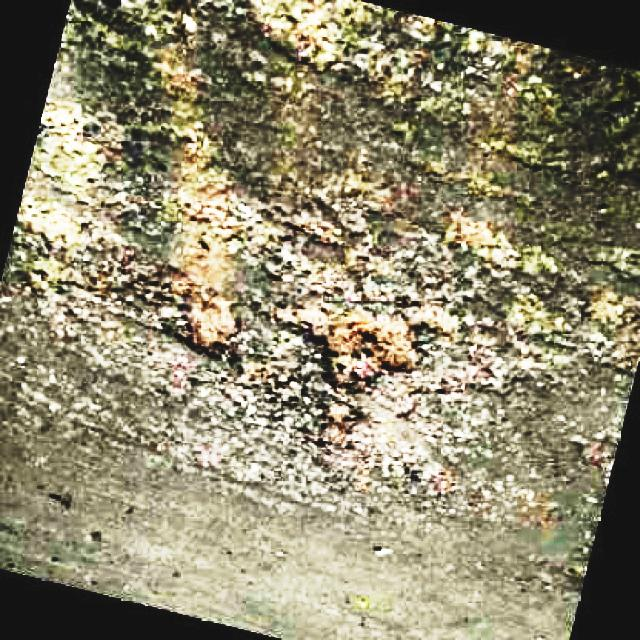pothole: (271, 295, 463, 397), (134, 254, 255, 377), (263, 0, 408, 88), (22, 200, 112, 298), (35, 95, 111, 191), (571, 282, 640, 382), (446, 204, 522, 274), (280, 202, 348, 258), (312, 395, 368, 460)
